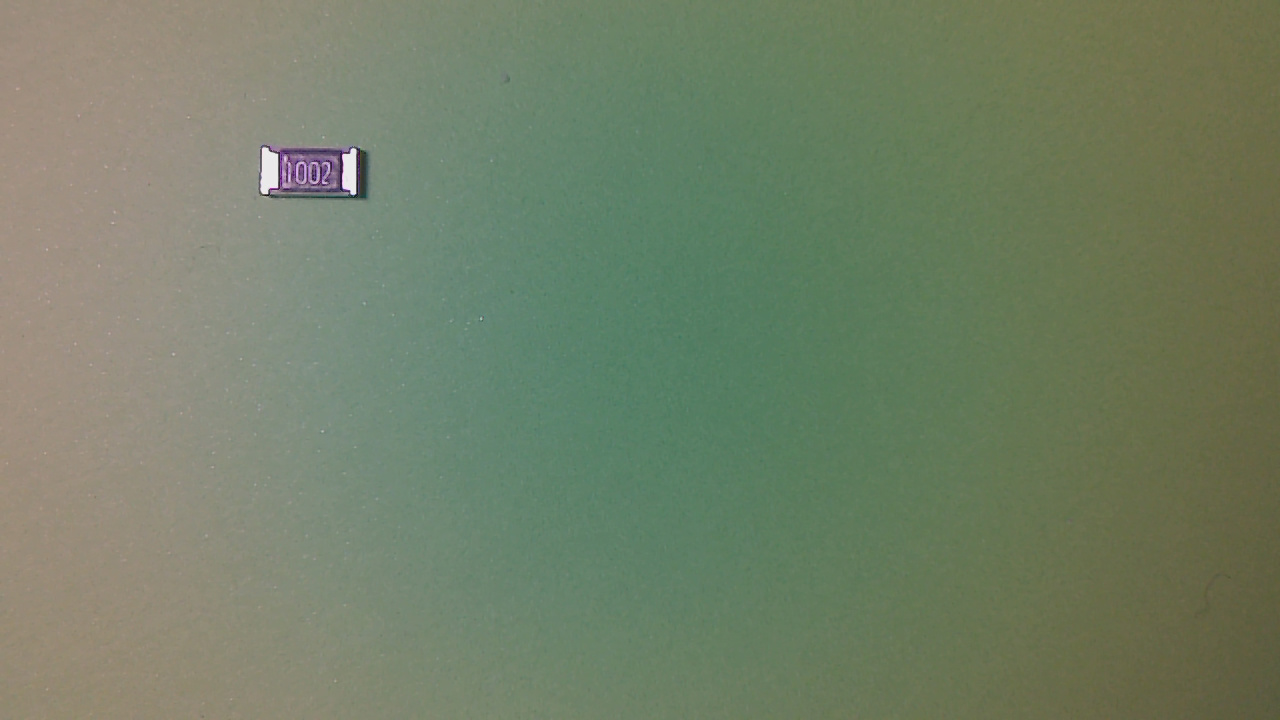Resistor: (259, 146, 377, 211)
